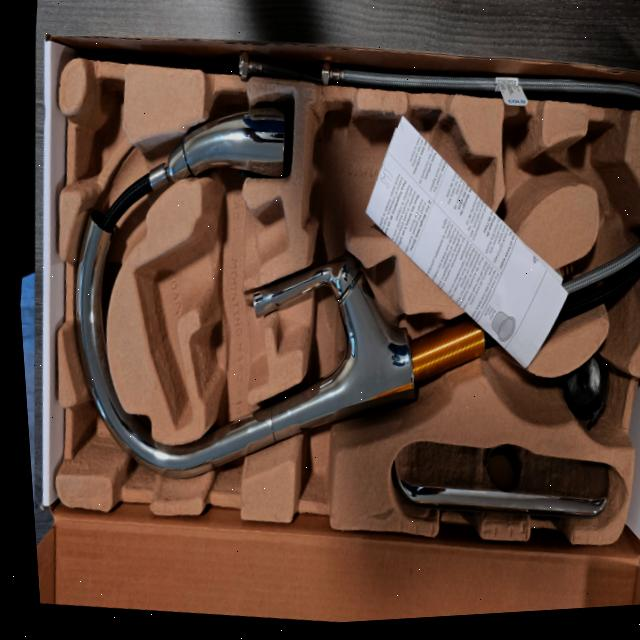1o: (74, 99, 640, 475)
2m: (134, 197, 288, 428)
3m: (304, 109, 497, 236)
4: (392, 439, 609, 513)
5: (564, 355, 610, 431)
6m: (564, 122, 636, 222)
7m: (483, 105, 556, 256)
8: (366, 109, 569, 369)
